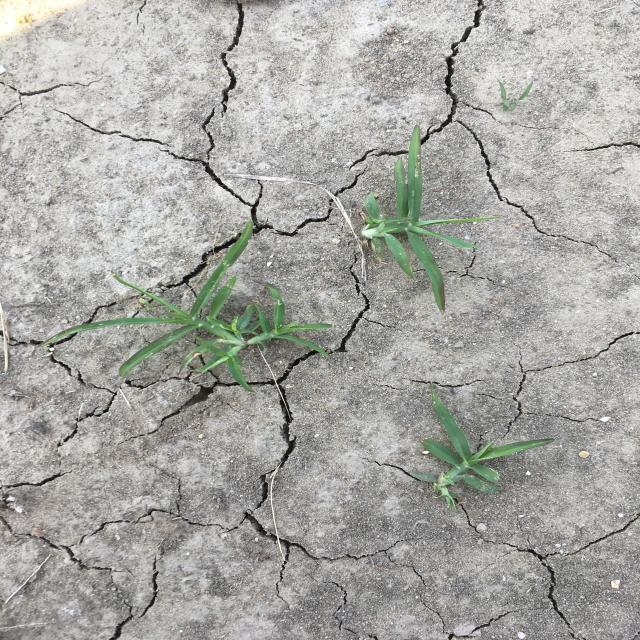Goosegrass: (31, 218, 336, 394), (359, 123, 501, 315), (406, 382, 557, 514)
